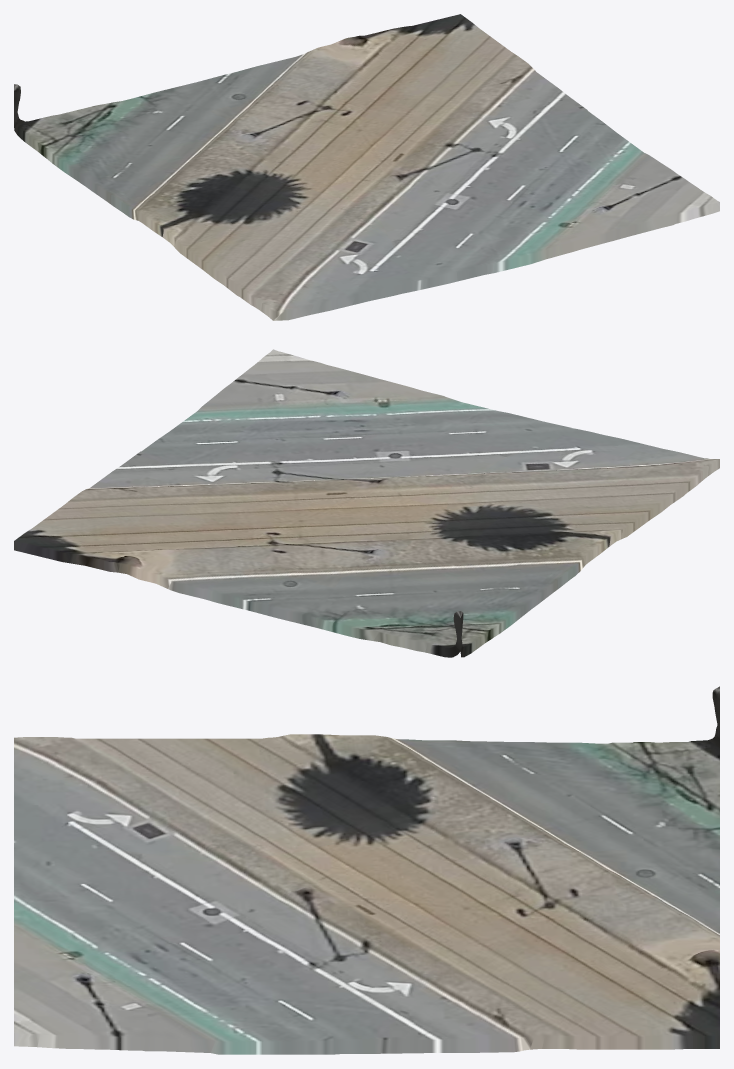
Rendered from z20-167767-405190-h0-yup-uvflip-v3-world.glb.
3 renders of one model, top to bottom at view 1: azimuth 30°, elevation 25°; view 2: azimuth 150°, elevation 25°; view 3: azimuth 270°, elevation 25°, orthographic. The views are drawn at different scales.
Bounding box in the file's own units: 30.16 × 3.44 × 30.32.
Materials: 1 (1 with a texture image).
